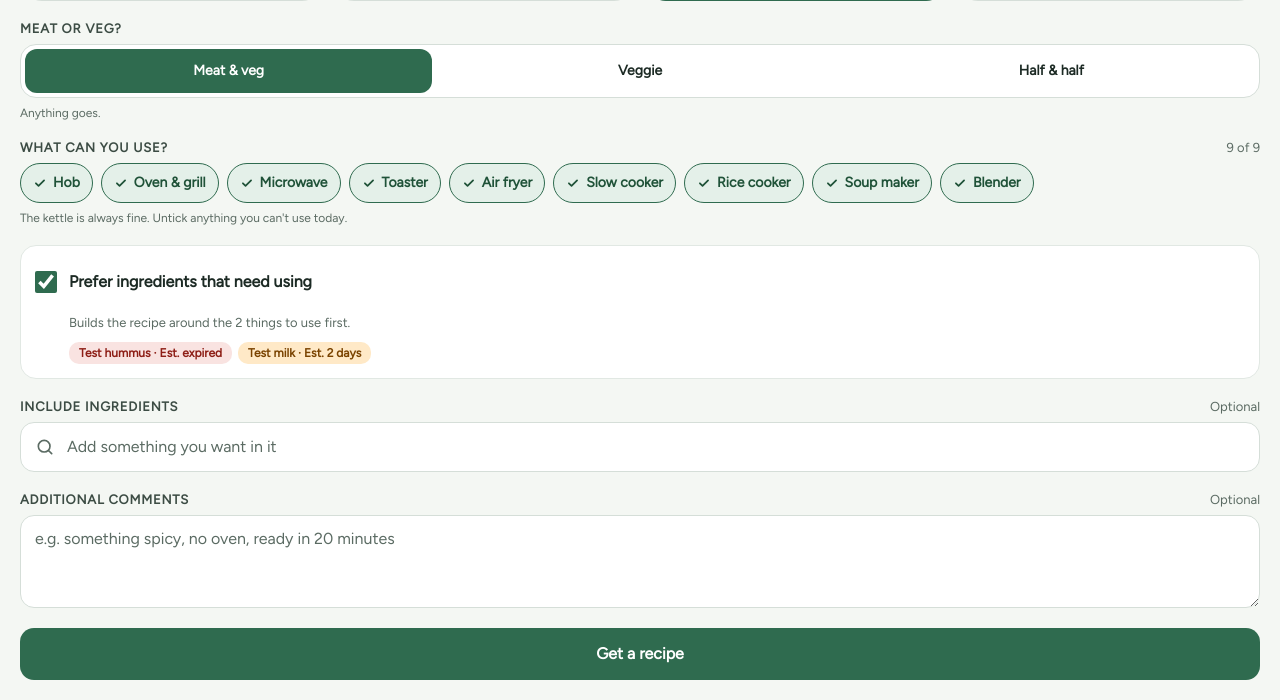
Test: the uses-up card is hidden when empty, and a couldn't-fit-in note shows
The width and height of the screenshot is (1280, 700).
(page scrolled)
Check: the dropdown labelled "Include ingredients" is shown, box [65,436,1245,457]
Click the button "Get a recipe".
click(640, 654)  # box [20,628,1260,680]
(page scrolled)
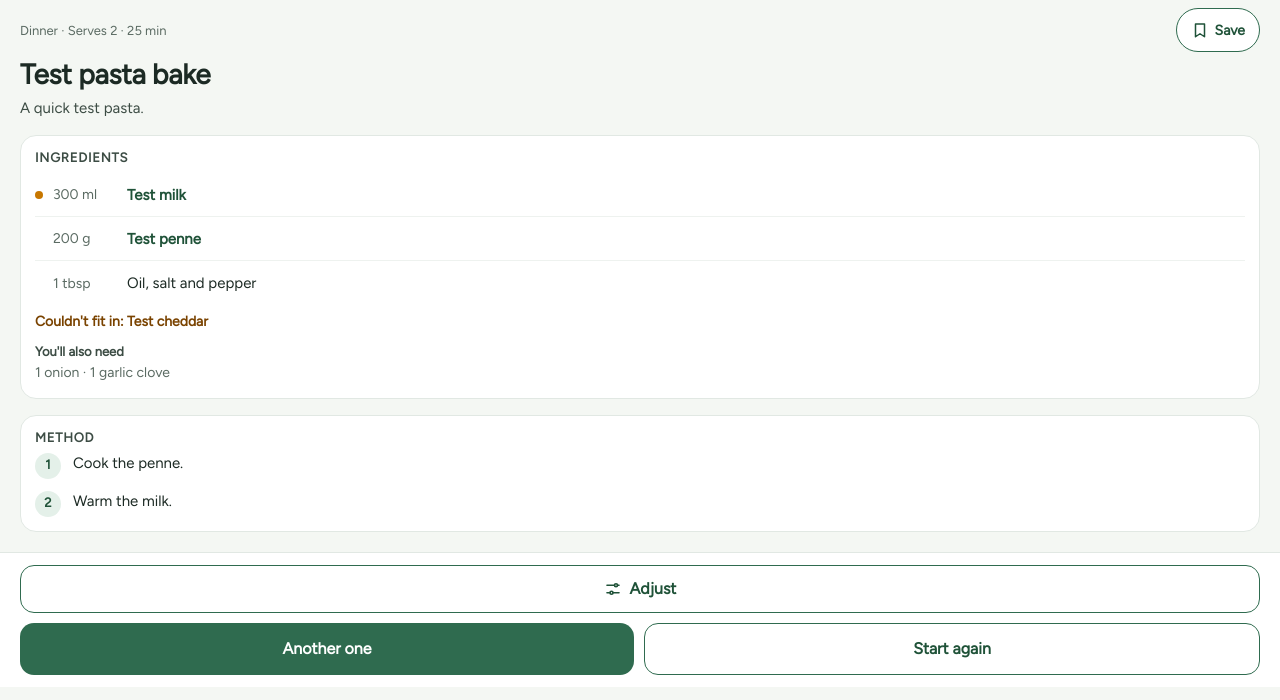
Check: the text "Couldn't fit in: Test cheddar" is shown, box [35,313,208,330]
